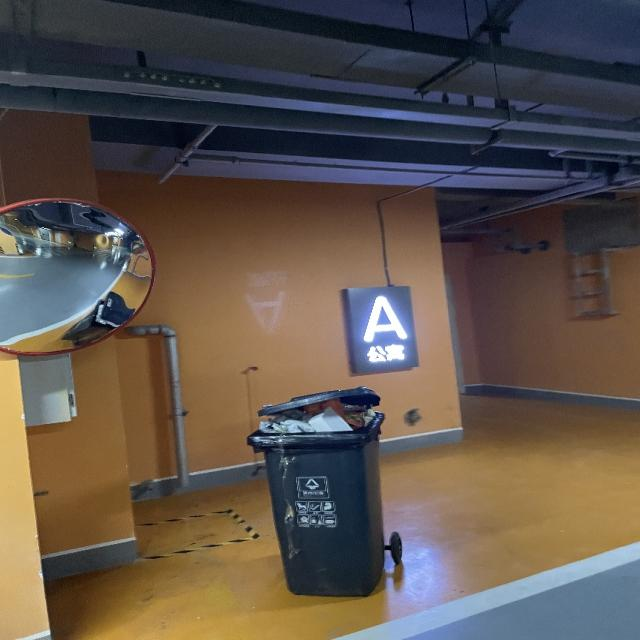overflow: (246, 386, 386, 596)
